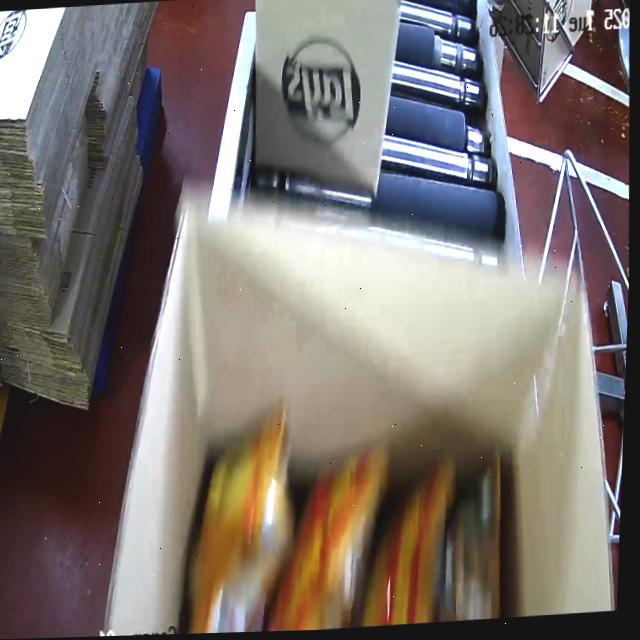FRENCH_CHEESE: (168, 397, 532, 634)
